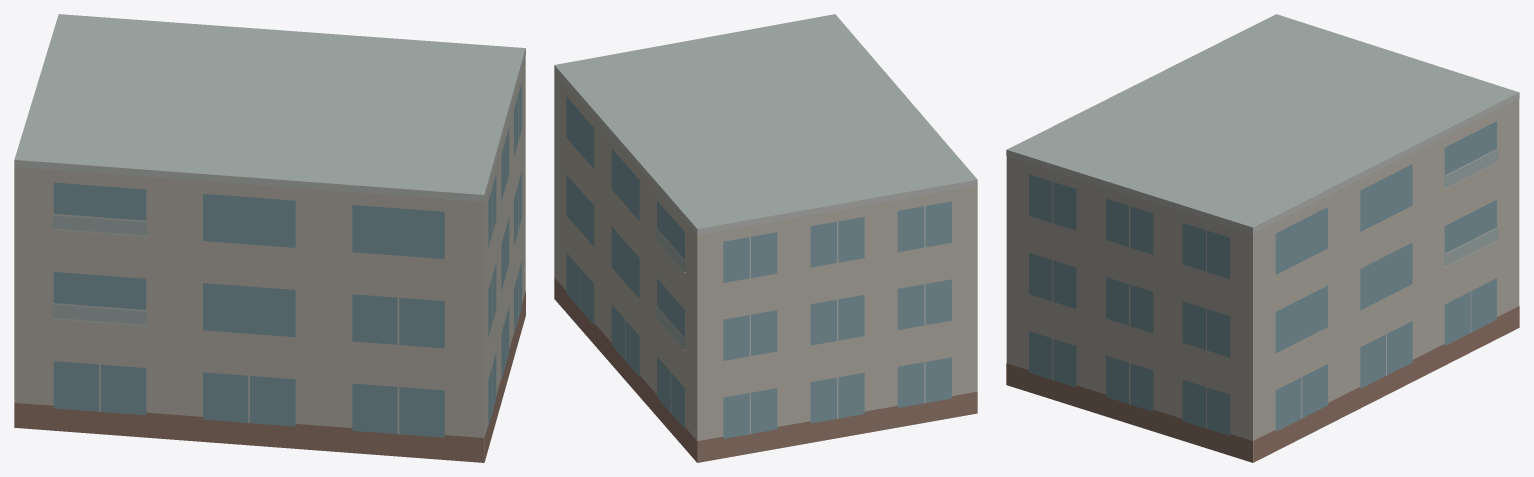
File: survey-upis-32888590.glb
3 views of the same model, side by side, from view 1: azimuth 30°, elevation 25°; view 2: azimuth 150°, elevation 25°; view 3: azimuth 270°, elevation 25° (orthographic). The views are drawn at different scales.
Parts seen in each view (by area): view 1: survey-upis-32888590.tmp; view 2: survey-upis-32888590.tmp; view 3: survey-upis-32888590.tmp.
Part boxes in pixels (left/top/right/bottom): survey-upis-32888590.tmp: left=14, top=14, right=525, bottom=462; survey-upis-32888590.tmp: left=554, top=14, right=977, bottom=462; survey-upis-32888590.tmp: left=1006, top=14, right=1519, bottom=462.
Bounding box in the file's own units: 17.72 × 9.1 × 17.98.
